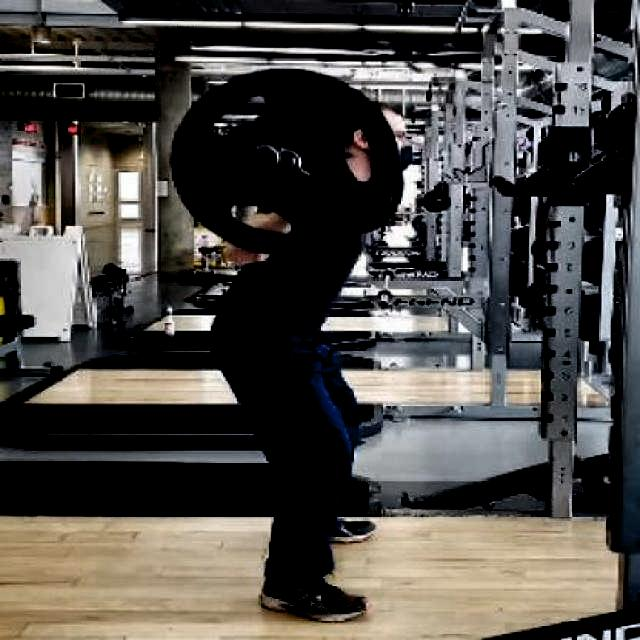barbell: (166, 61, 407, 257)
